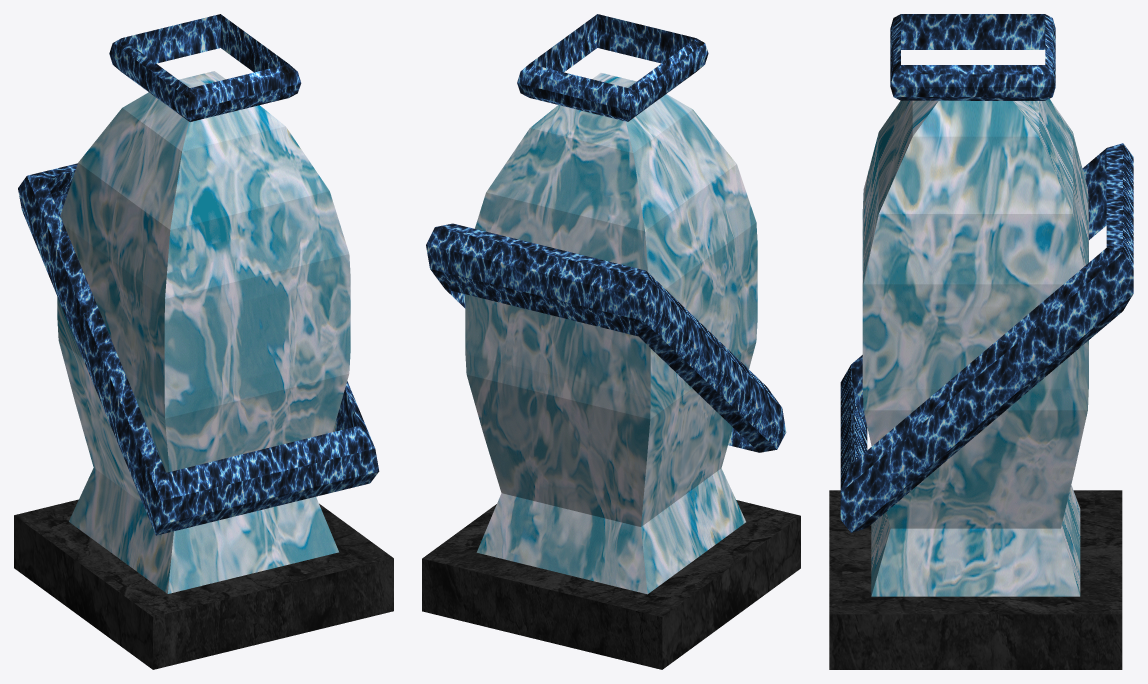
Rendered from AllyShrine.fbx.
3 renders of one model, left to right at view 1: azimuth 30°, elevation 25°; view 2: azimuth 150°, elevation 25°; view 3: azimuth 270°, elevation 25°, orthographic. The views are drawn at different scales.
Parts seen in each view (by area): view 1: AllyShrine; view 2: AllyShrine; view 3: AllyShrine.
Boxes of the visible parts, x1=… form: AllyShrine: x1=14, y1=14, x2=393, y2=669; AllyShrine: x1=422, y1=14, x2=800, y2=669; AllyShrine: x1=829, y1=14, x2=1133, y2=669.
Bounding box in the file's own units: 100 × 214 × 104.
3 materials, 3 textured.
